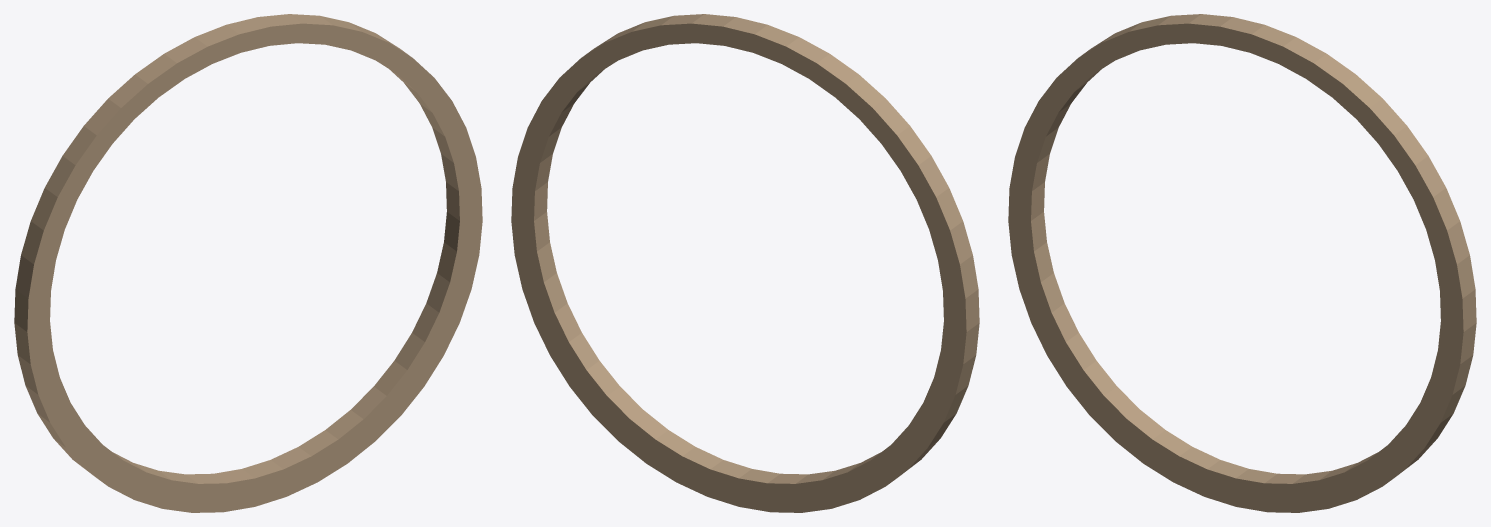
File: hotspot-marker-ring.glb
3 renders of one model, left to right at view 1: azimuth 30°, elevation 25°; view 2: azimuth 150°, elevation 25°; view 3: azimuth 330°, elevation 25°, orthographic.
Visible parts, largest first — view 1: Mesh_Mesh_head_geo.001_lambert2SG.001; view 2: Mesh_Mesh_head_geo.001_lambert2SG.001; view 3: Mesh_Mesh_head_geo.001_lambert2SG.001.
Boxes of the visible parts, box(x1,y1,x2,y2) form: Mesh_Mesh_head_geo.001_lambert2SG.001: box(14, 14, 482, 512); Mesh_Mesh_head_geo.001_lambert2SG.001: box(511, 14, 979, 512); Mesh_Mesh_head_geo.001_lambert2SG.001: box(1008, 14, 1476, 512).
Size of the model in its own units: 0.1005 by 0.1005 by 0.005.
